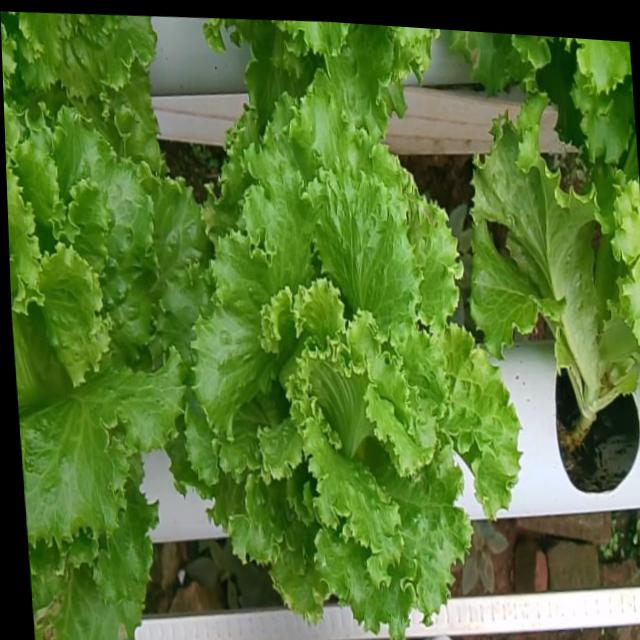Mature: (185, 101, 518, 640), (6, 114, 206, 556)
